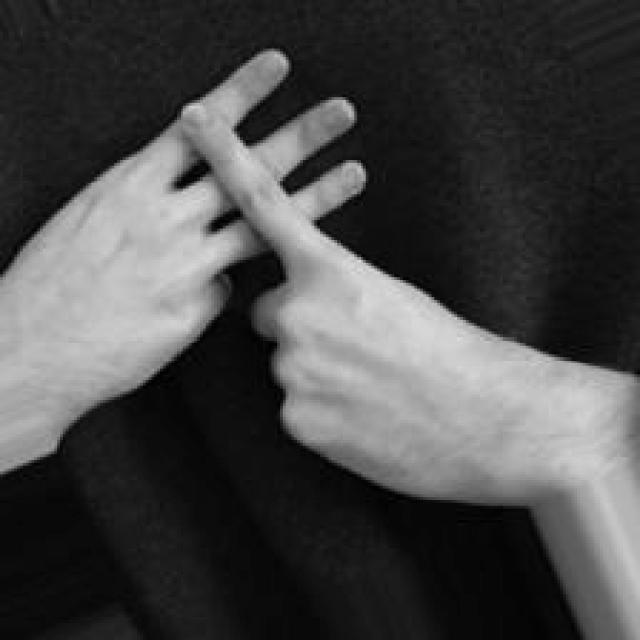E: (0, 42, 538, 504)
